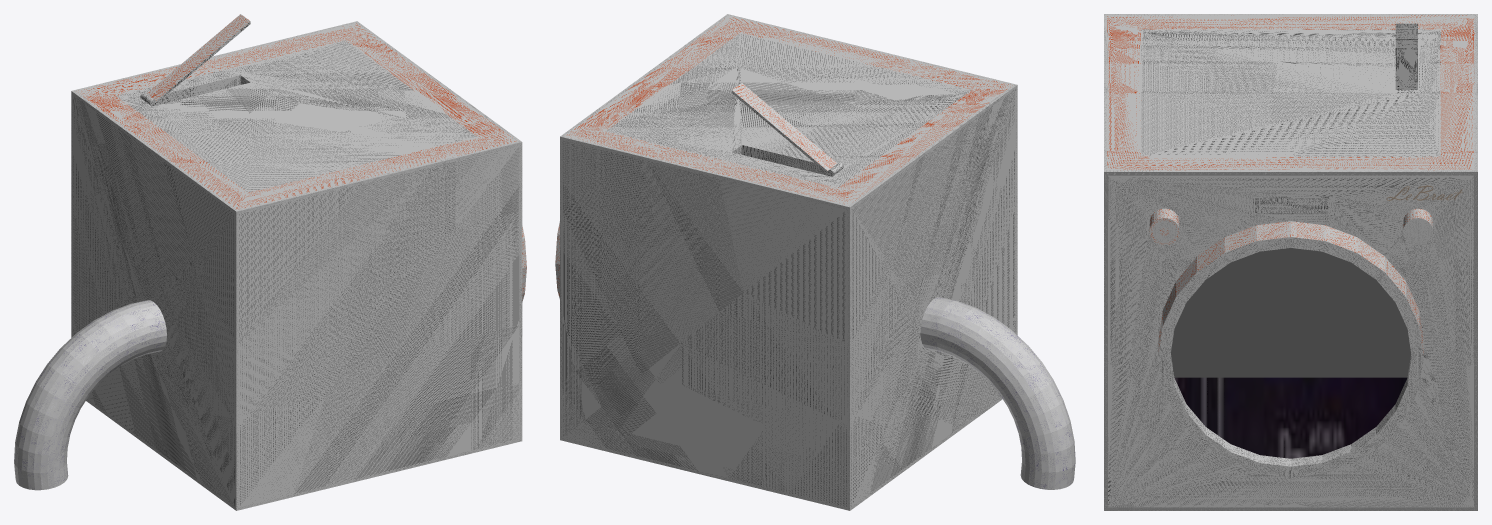
The picture shows the model from 3 angles, left to right: view 1: azimuth 30°, elevation 25°; view 2: azimuth 150°, elevation 25°; view 3: azimuth 270°, elevation 25°; orthographic projection. The views are drawn at different scales.
Parts seen in each view (by area): view 1: mesh24.001_mesh24-geometry; view 2: mesh24.001_mesh24-geometry; view 3: mesh24.001_mesh24-geometry.
Part boxes in pixels (left/top/right/bottom): mesh24.001_mesh24-geometry: left=14, top=14, right=526, bottom=510; mesh24.001_mesh24-geometry: left=555, top=14, right=1075, bottom=510; mesh24.001_mesh24-geometry: left=1104, top=14, right=1477, bottom=510.
Size of the model in its own units: 0.7082 by 0.5447 by 0.4492.
